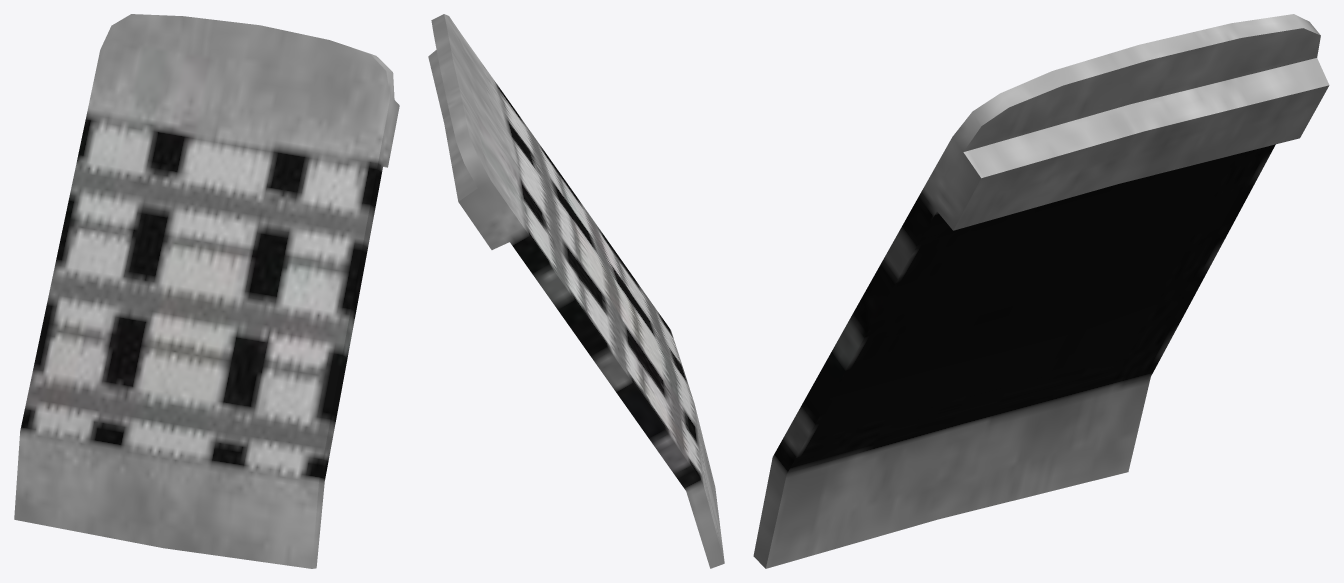
Rendered from rider-shoulderarmor-slice-heavystablesoldiers.glb.
The picture shows the model from 3 angles, left to right: view 1: azimuth 30°, elevation 25°; view 2: azimuth 150°, elevation 25°; view 3: azimuth 270°, elevation 25°; orthographic projection. The views are drawn at different scales.
Size of the model in its own units: 0.2411 by 0.2967 by 0.2628.
Materials: 1 (1 with a texture image).
